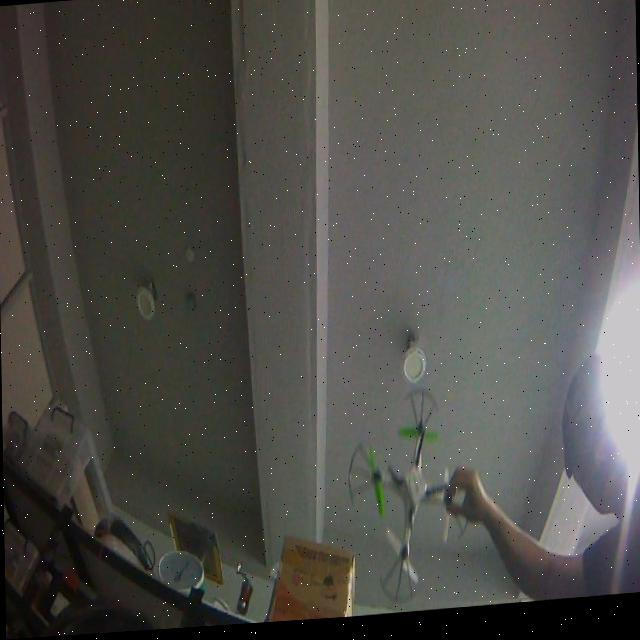drone: (345, 388, 474, 615)
